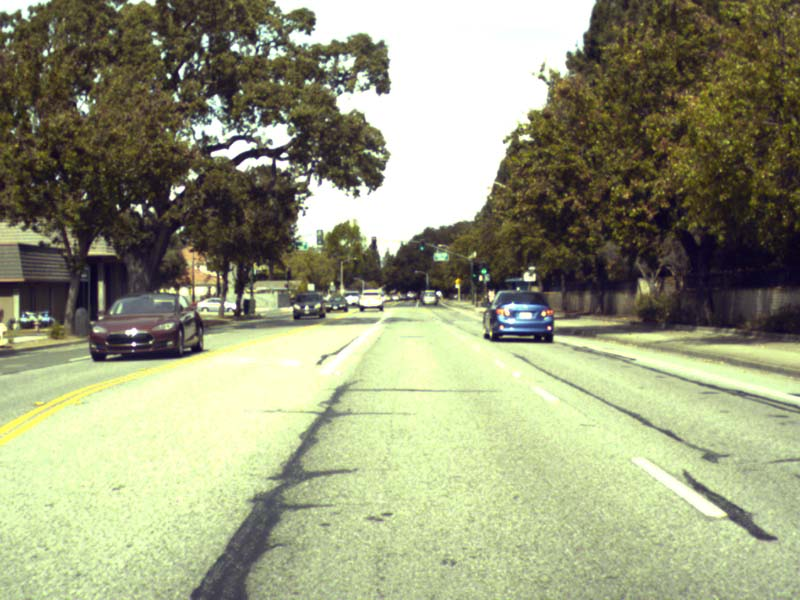Green: (472, 264, 477, 279), (481, 261, 486, 273), (420, 239, 424, 250)
